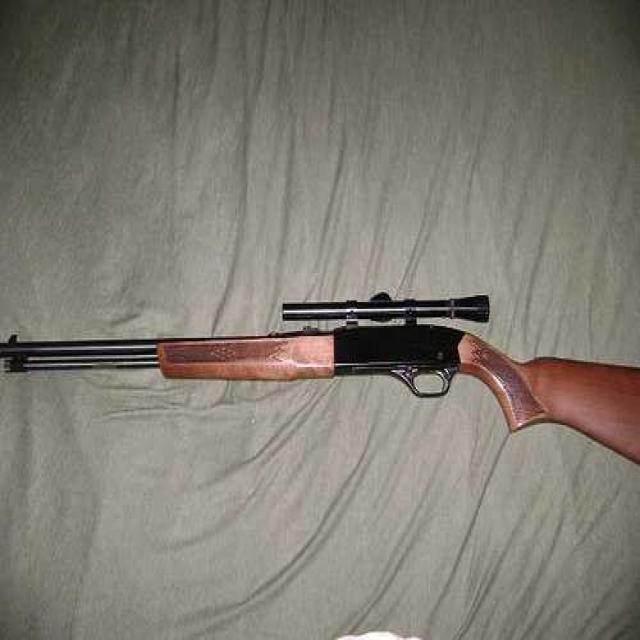weapon: (1, 274, 640, 530)
